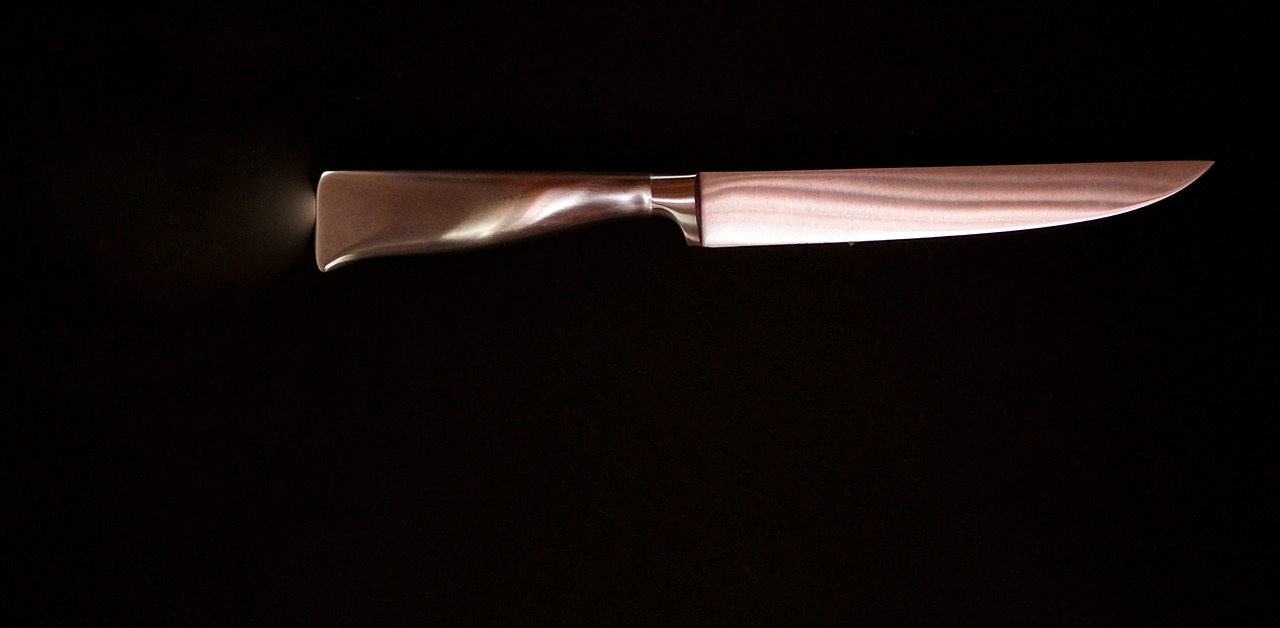knife: (298, 150, 1251, 274)
